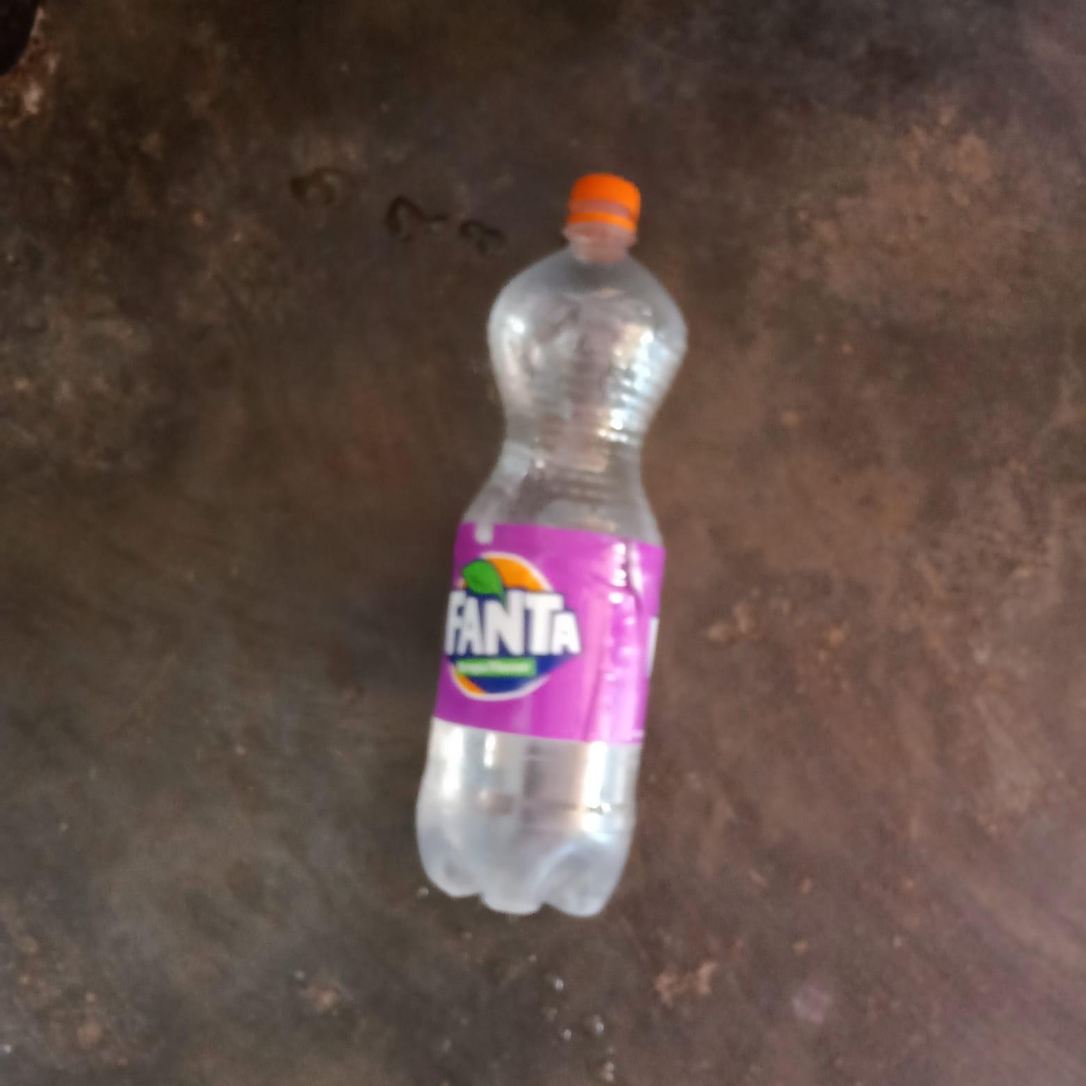Plastik: (396, 173, 684, 916)
